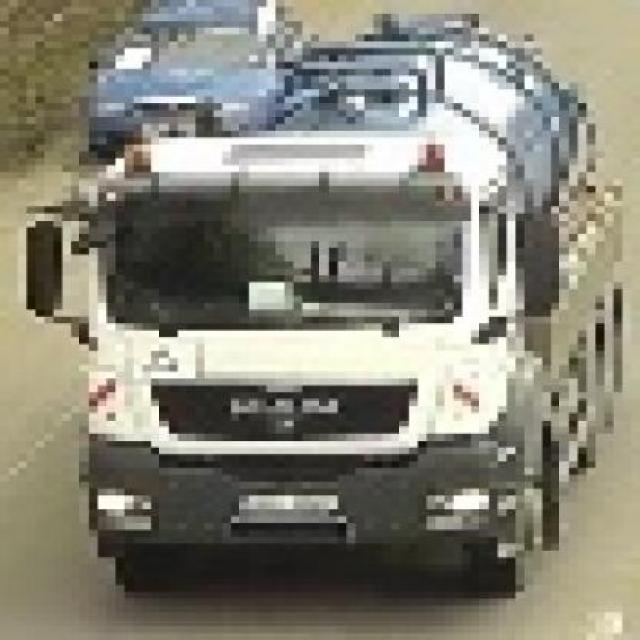truck: (27, 1, 640, 599)
